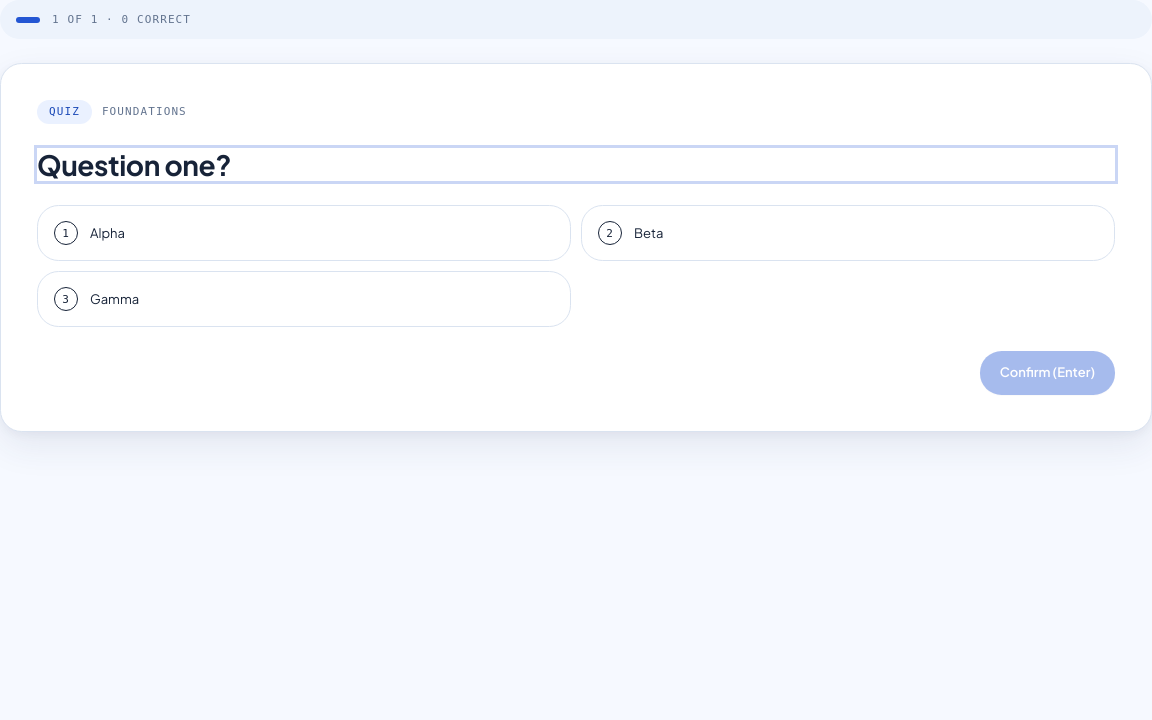
Test: saving a run to the account › says so, rather than pretending, when an answer cannot be saved
Click the button named "2Beta".
click(610, 233)  # box [581, 205, 1115, 261]
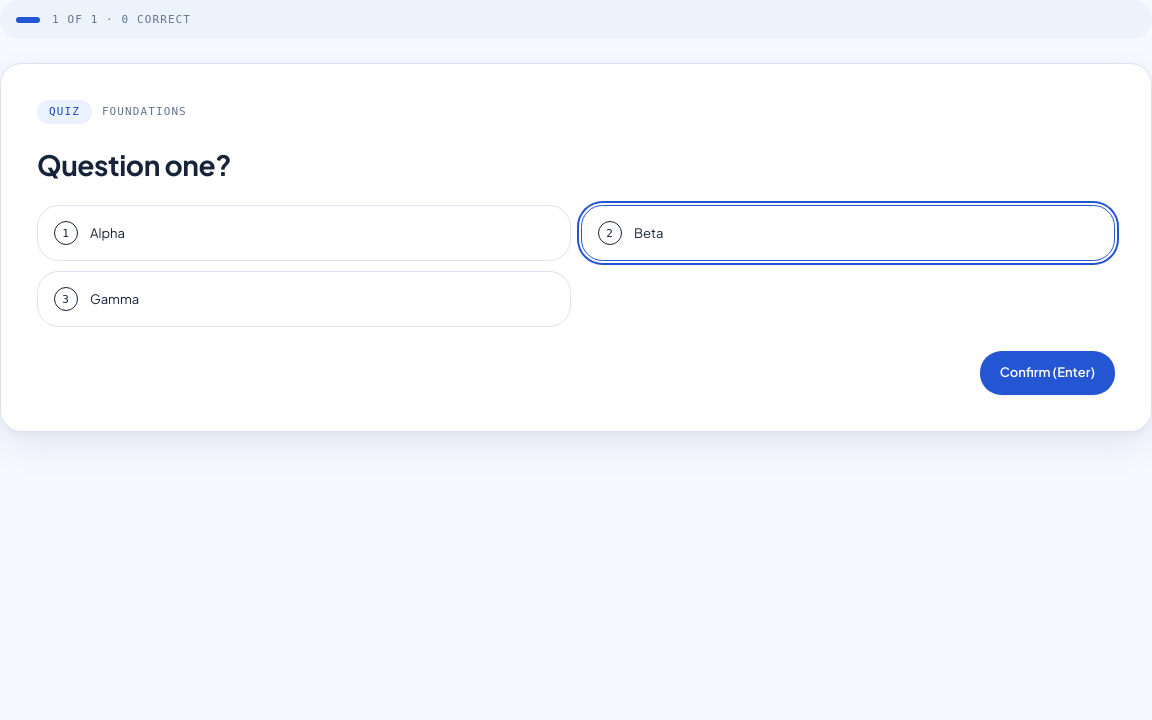
Press Enter
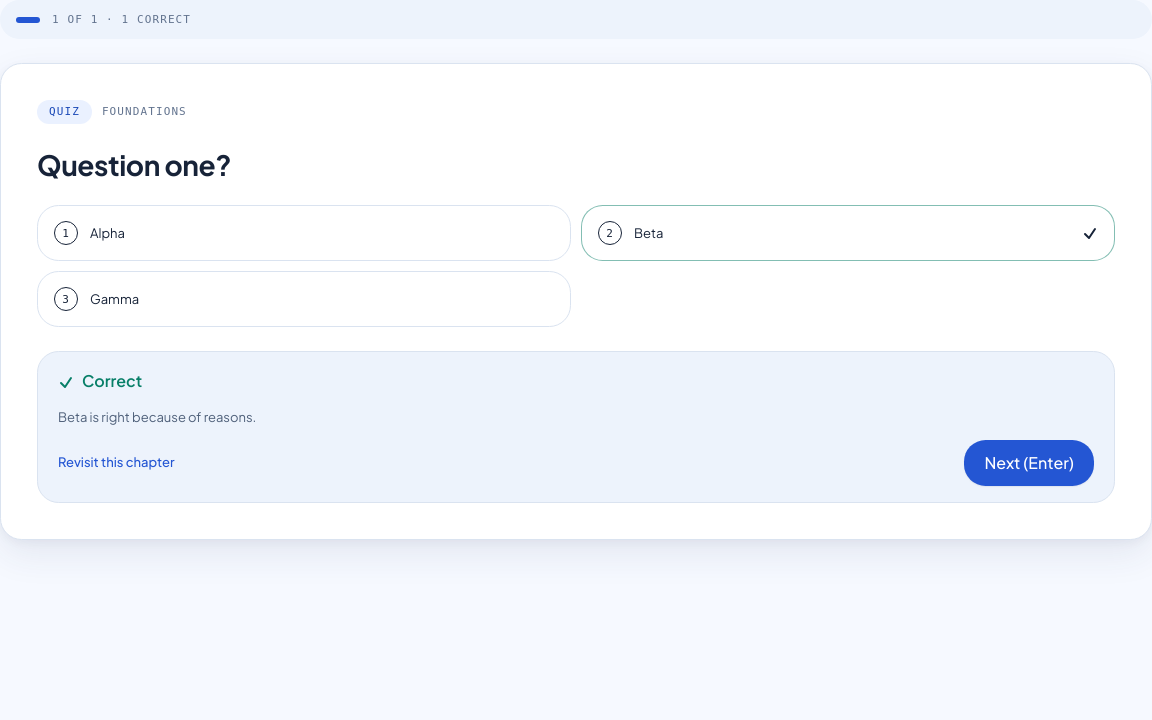
Press Enter
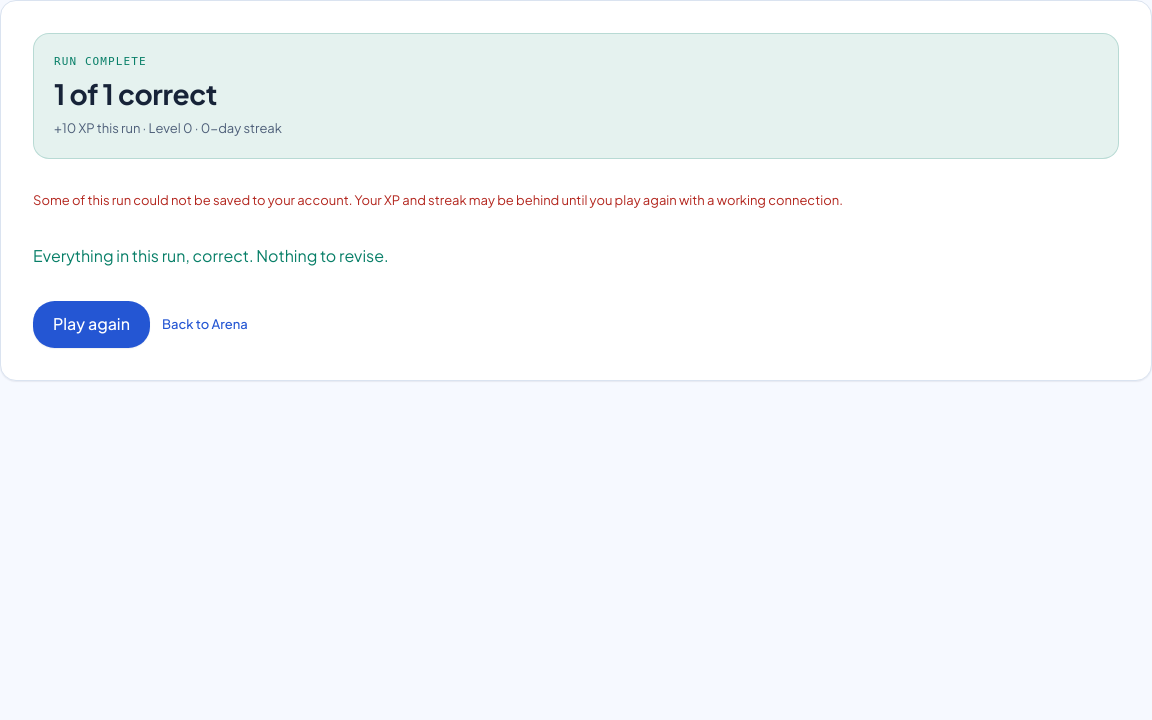
Result: the message shows "could not be saved" at [33, 192, 843, 208]
